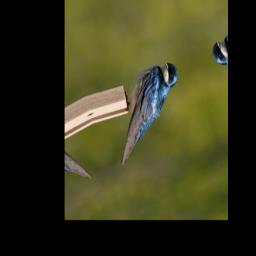Swallow: (97, 54, 198, 167)
